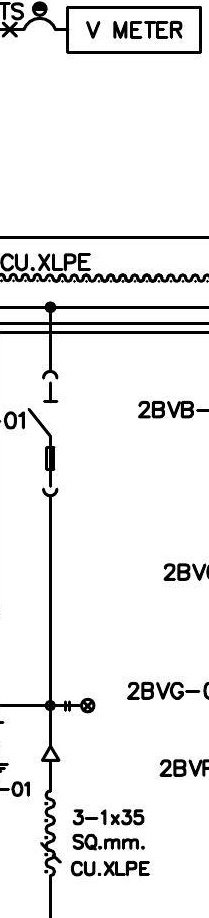22_ds: (27, 369, 59, 498)
22_ll: (64, 697, 96, 714)
terminator_single: (40, 744, 62, 763)
v_m_digital: (65, 5, 203, 55)
